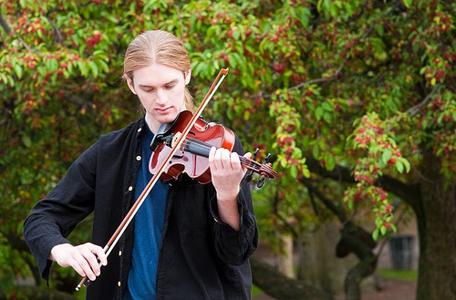person: (23, 31, 262, 300)
